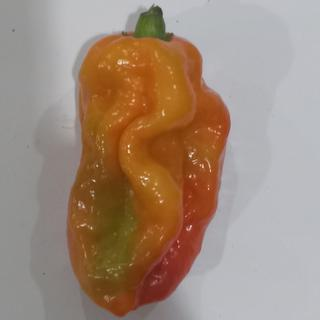Grade-A: (61, 27, 234, 317)
